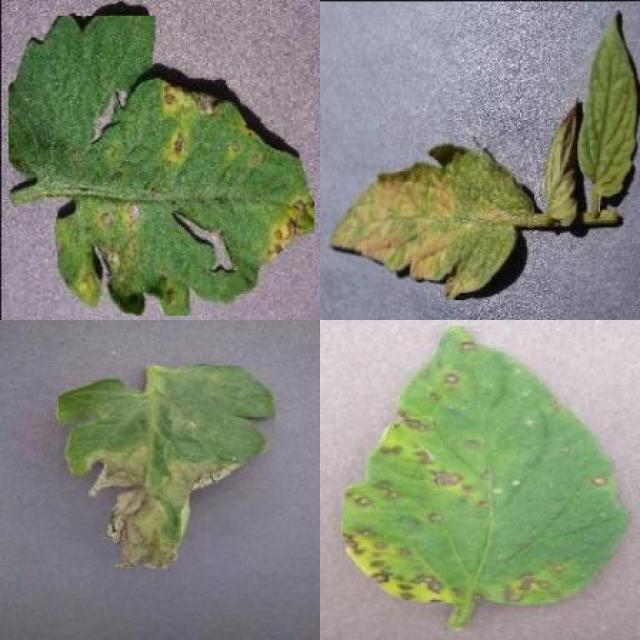Healthy: (578, 7, 640, 194)
Late Blight: (58, 365, 276, 569)
Leaf Mold: (325, 132, 535, 300)
Septoria: (8, 16, 315, 316), (344, 326, 626, 604)
